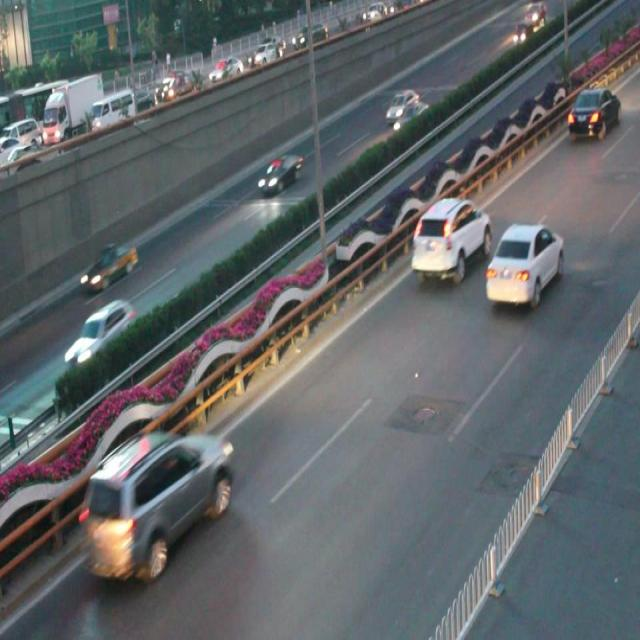car: (78, 431, 234, 582), (482, 220, 564, 304), (409, 198, 492, 280), (64, 299, 137, 364), (566, 84, 621, 142), (79, 242, 139, 288), (256, 152, 301, 196), (391, 101, 429, 136), (383, 86, 418, 118)
